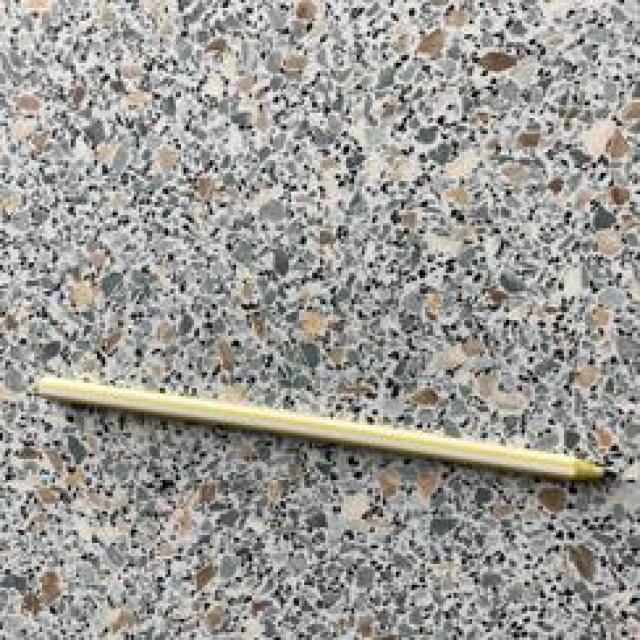pencil: (21, 372, 611, 482)
